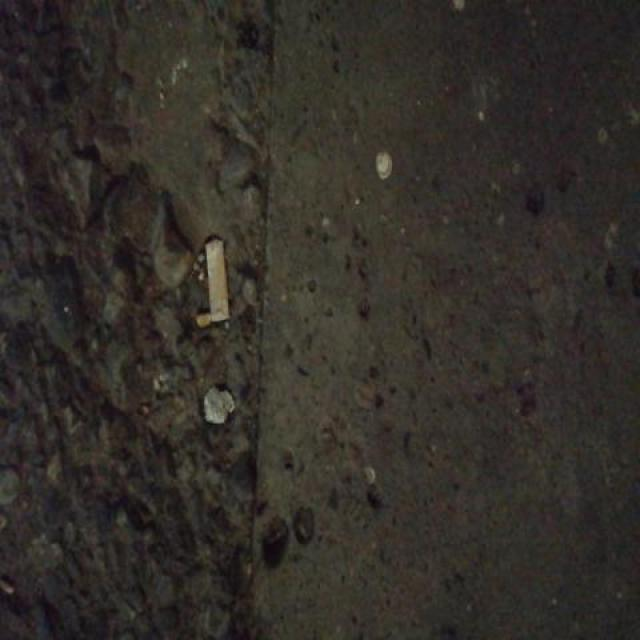non-organic waste: (200, 233, 237, 329)
